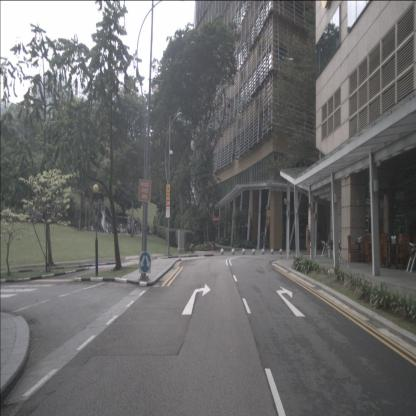human-pedestrian-adult: (262, 232, 267, 252)
vehicle-bicycle: (185, 238, 195, 254)
